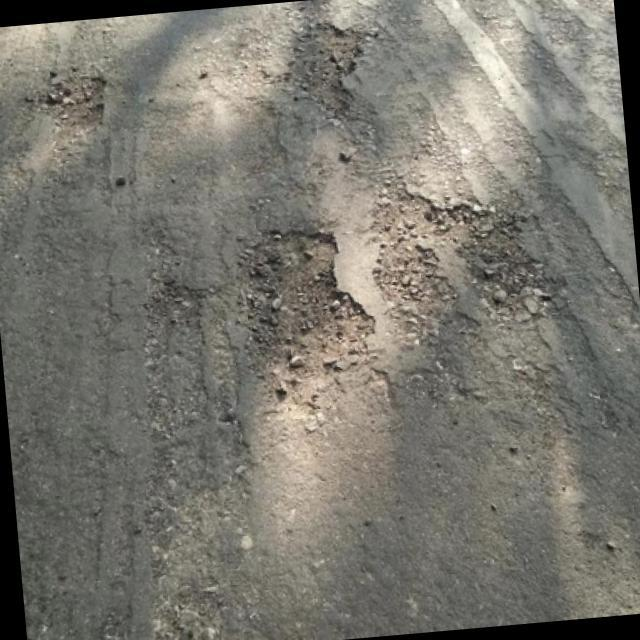Pothole: (372, 182, 548, 345), (241, 234, 373, 424)
